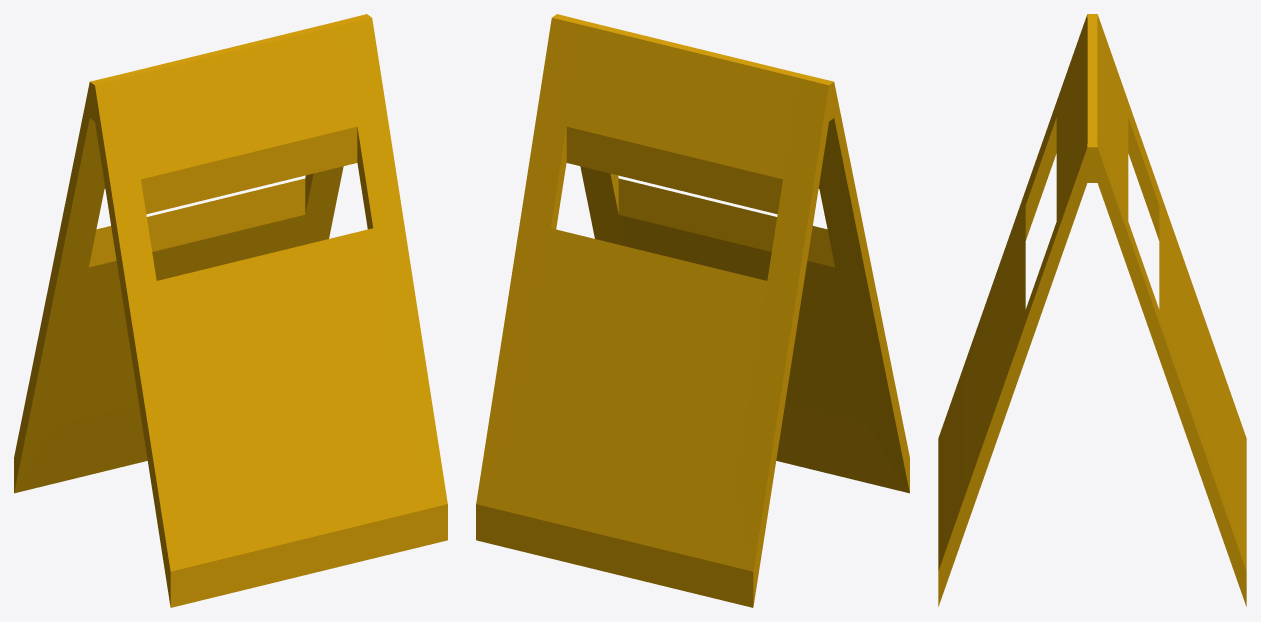
The model's file is corridoorFloorSign.fbx.
The picture shows the model from 3 angles, left to right: view 1: azimuth 30°, elevation 25°; view 2: azimuth 150°, elevation 25°; view 3: azimuth 270°, elevation 25°; orthographic projection.
Visible parts, largest first — view 1: wetFloor; view 2: wetFloor; view 3: wetFloor.
Part boxes in pixels (x1,y1,x2,y2): wetFloor: [14, 14, 447, 607]; wetFloor: [476, 14, 909, 607]; wetFloor: [938, 14, 1246, 606].
Size of the model in its own units: 80 by 129 by 78.22.
